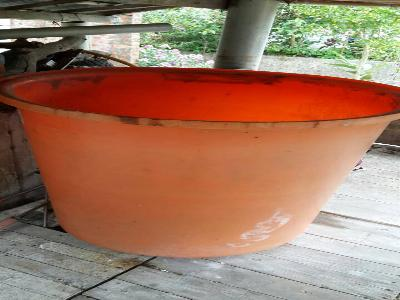bucket: (1, 66, 400, 258)
